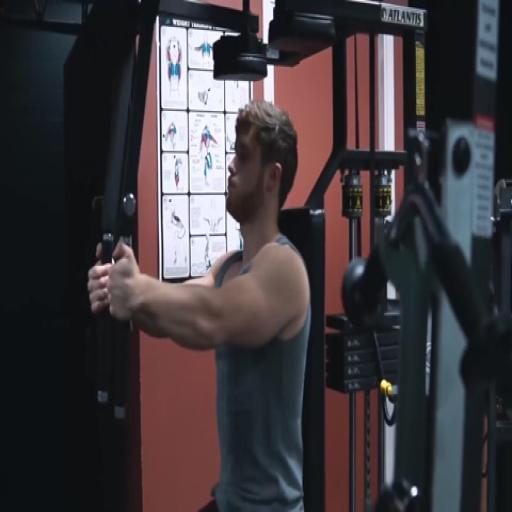exercise: (85, 98, 315, 511)
